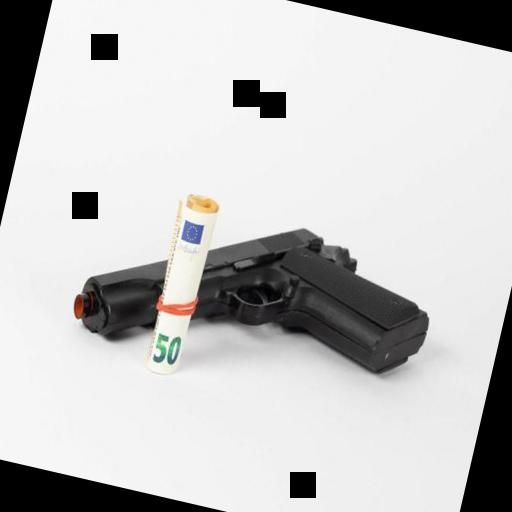Handgun: (66, 180, 443, 416)
